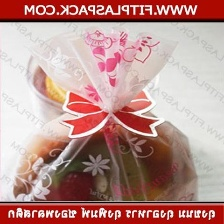snack: (5, 21, 207, 201)
